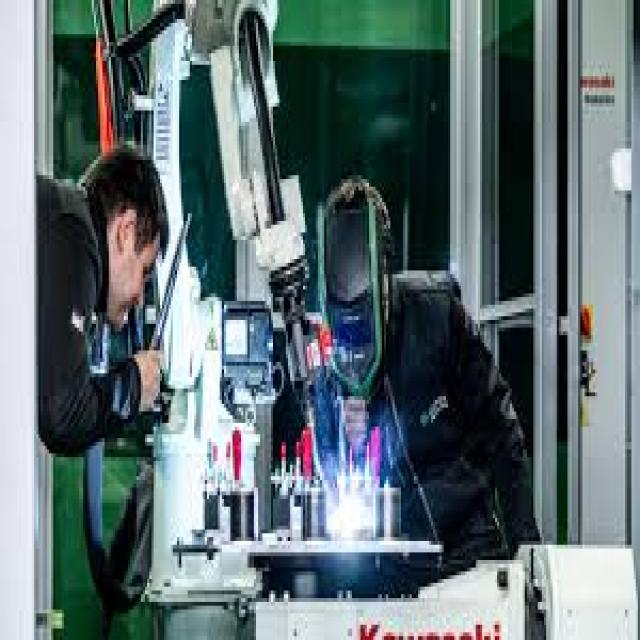welding: (326, 490, 367, 532)
